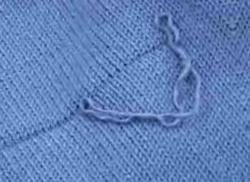snag: (61, 84, 122, 129)
